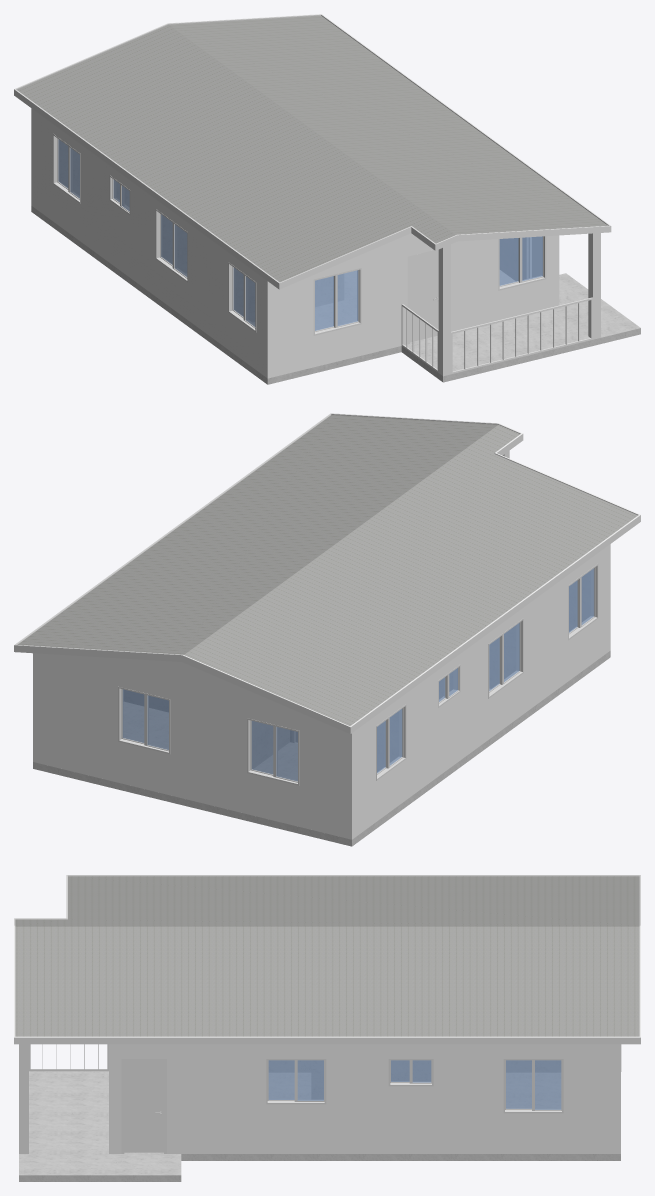
Rendered from house_1.glb.
The picture shows the model from 3 angles, top to bottom: view 1: azimuth 30°, elevation 25°; view 2: azimuth 150°, elevation 25°; view 3: azimuth 270°, elevation 25°; orthographic projection. The views are drawn at different scales.
Parts seen in each view (by area): view 1: house_1; view 2: house_1; view 3: house_1.
Boxes of the visible parts, x1=… form: house_1: x1=14, y1=14, x2=640, y2=384; house_1: x1=14, y1=413, x2=640, y2=846; house_1: x1=14, y1=875, x2=640, y2=1181.
Size of the model in its own units: 8.5 by 3.49 by 12.55.
7 materials, 2 textured.
